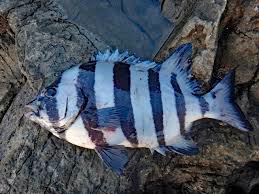azi: (29, 53, 235, 162)
